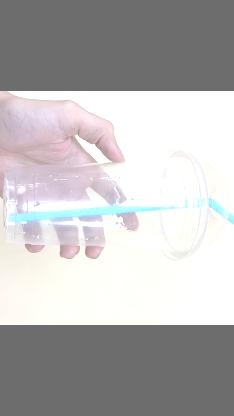Others: (2, 147, 234, 261)
